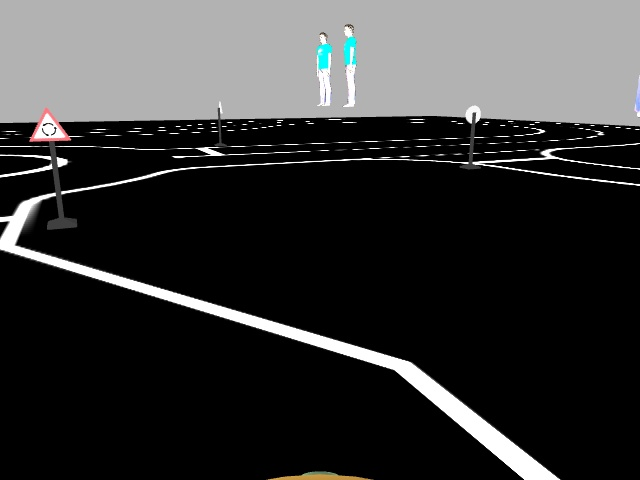Roundabout: (26, 105, 71, 140)
